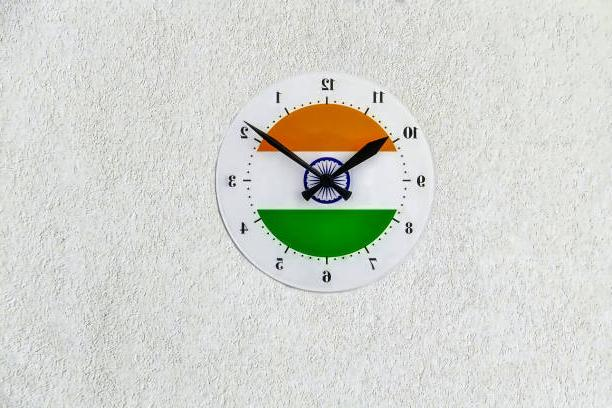clock: (217, 74, 435, 300)
